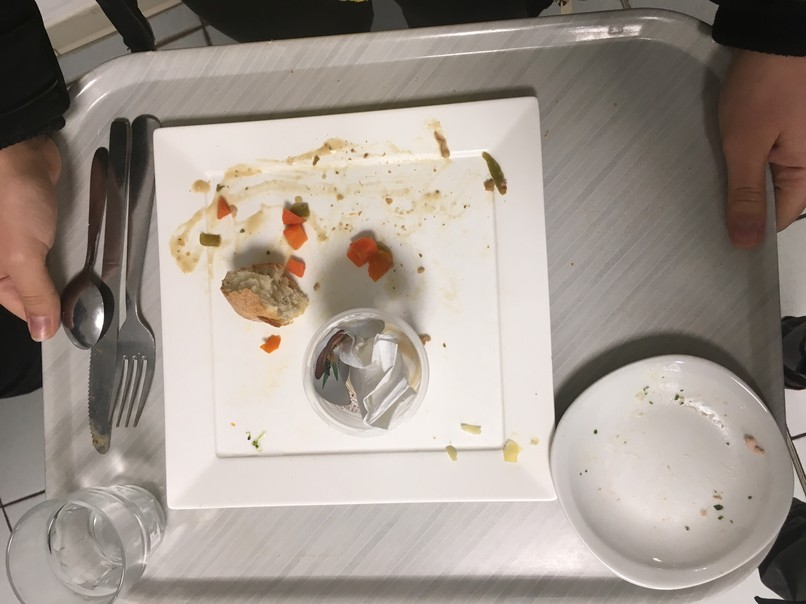cup: (2, 477, 172, 604)
cutlery: (45, 118, 172, 459)
orga: (221, 264, 310, 327), (350, 239, 399, 277), (280, 202, 312, 250)
trash: (310, 314, 430, 435)
